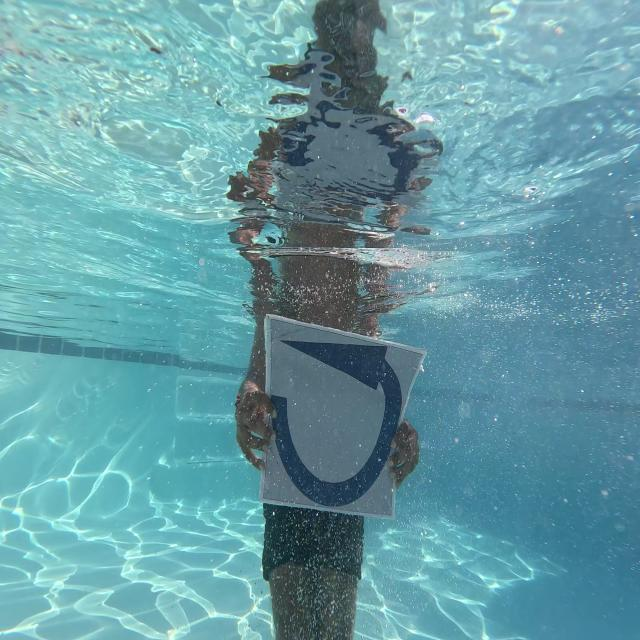blue_side: (268, 316, 415, 513)
